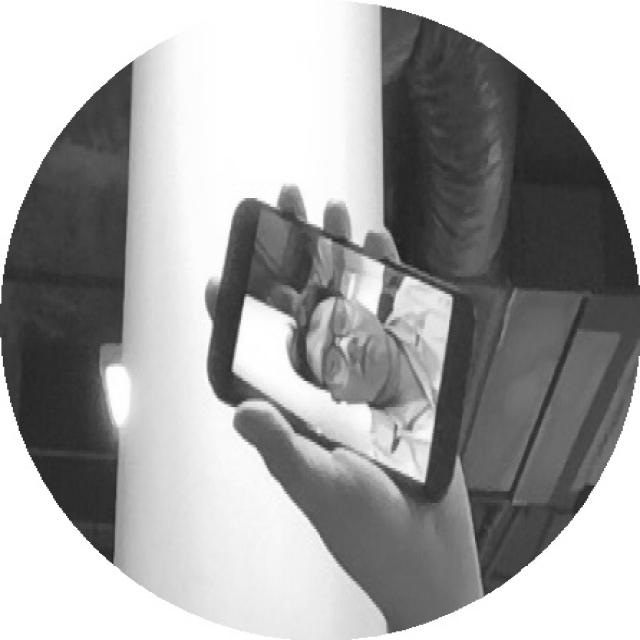fake: (154, 176, 512, 522), (206, 192, 499, 517)
